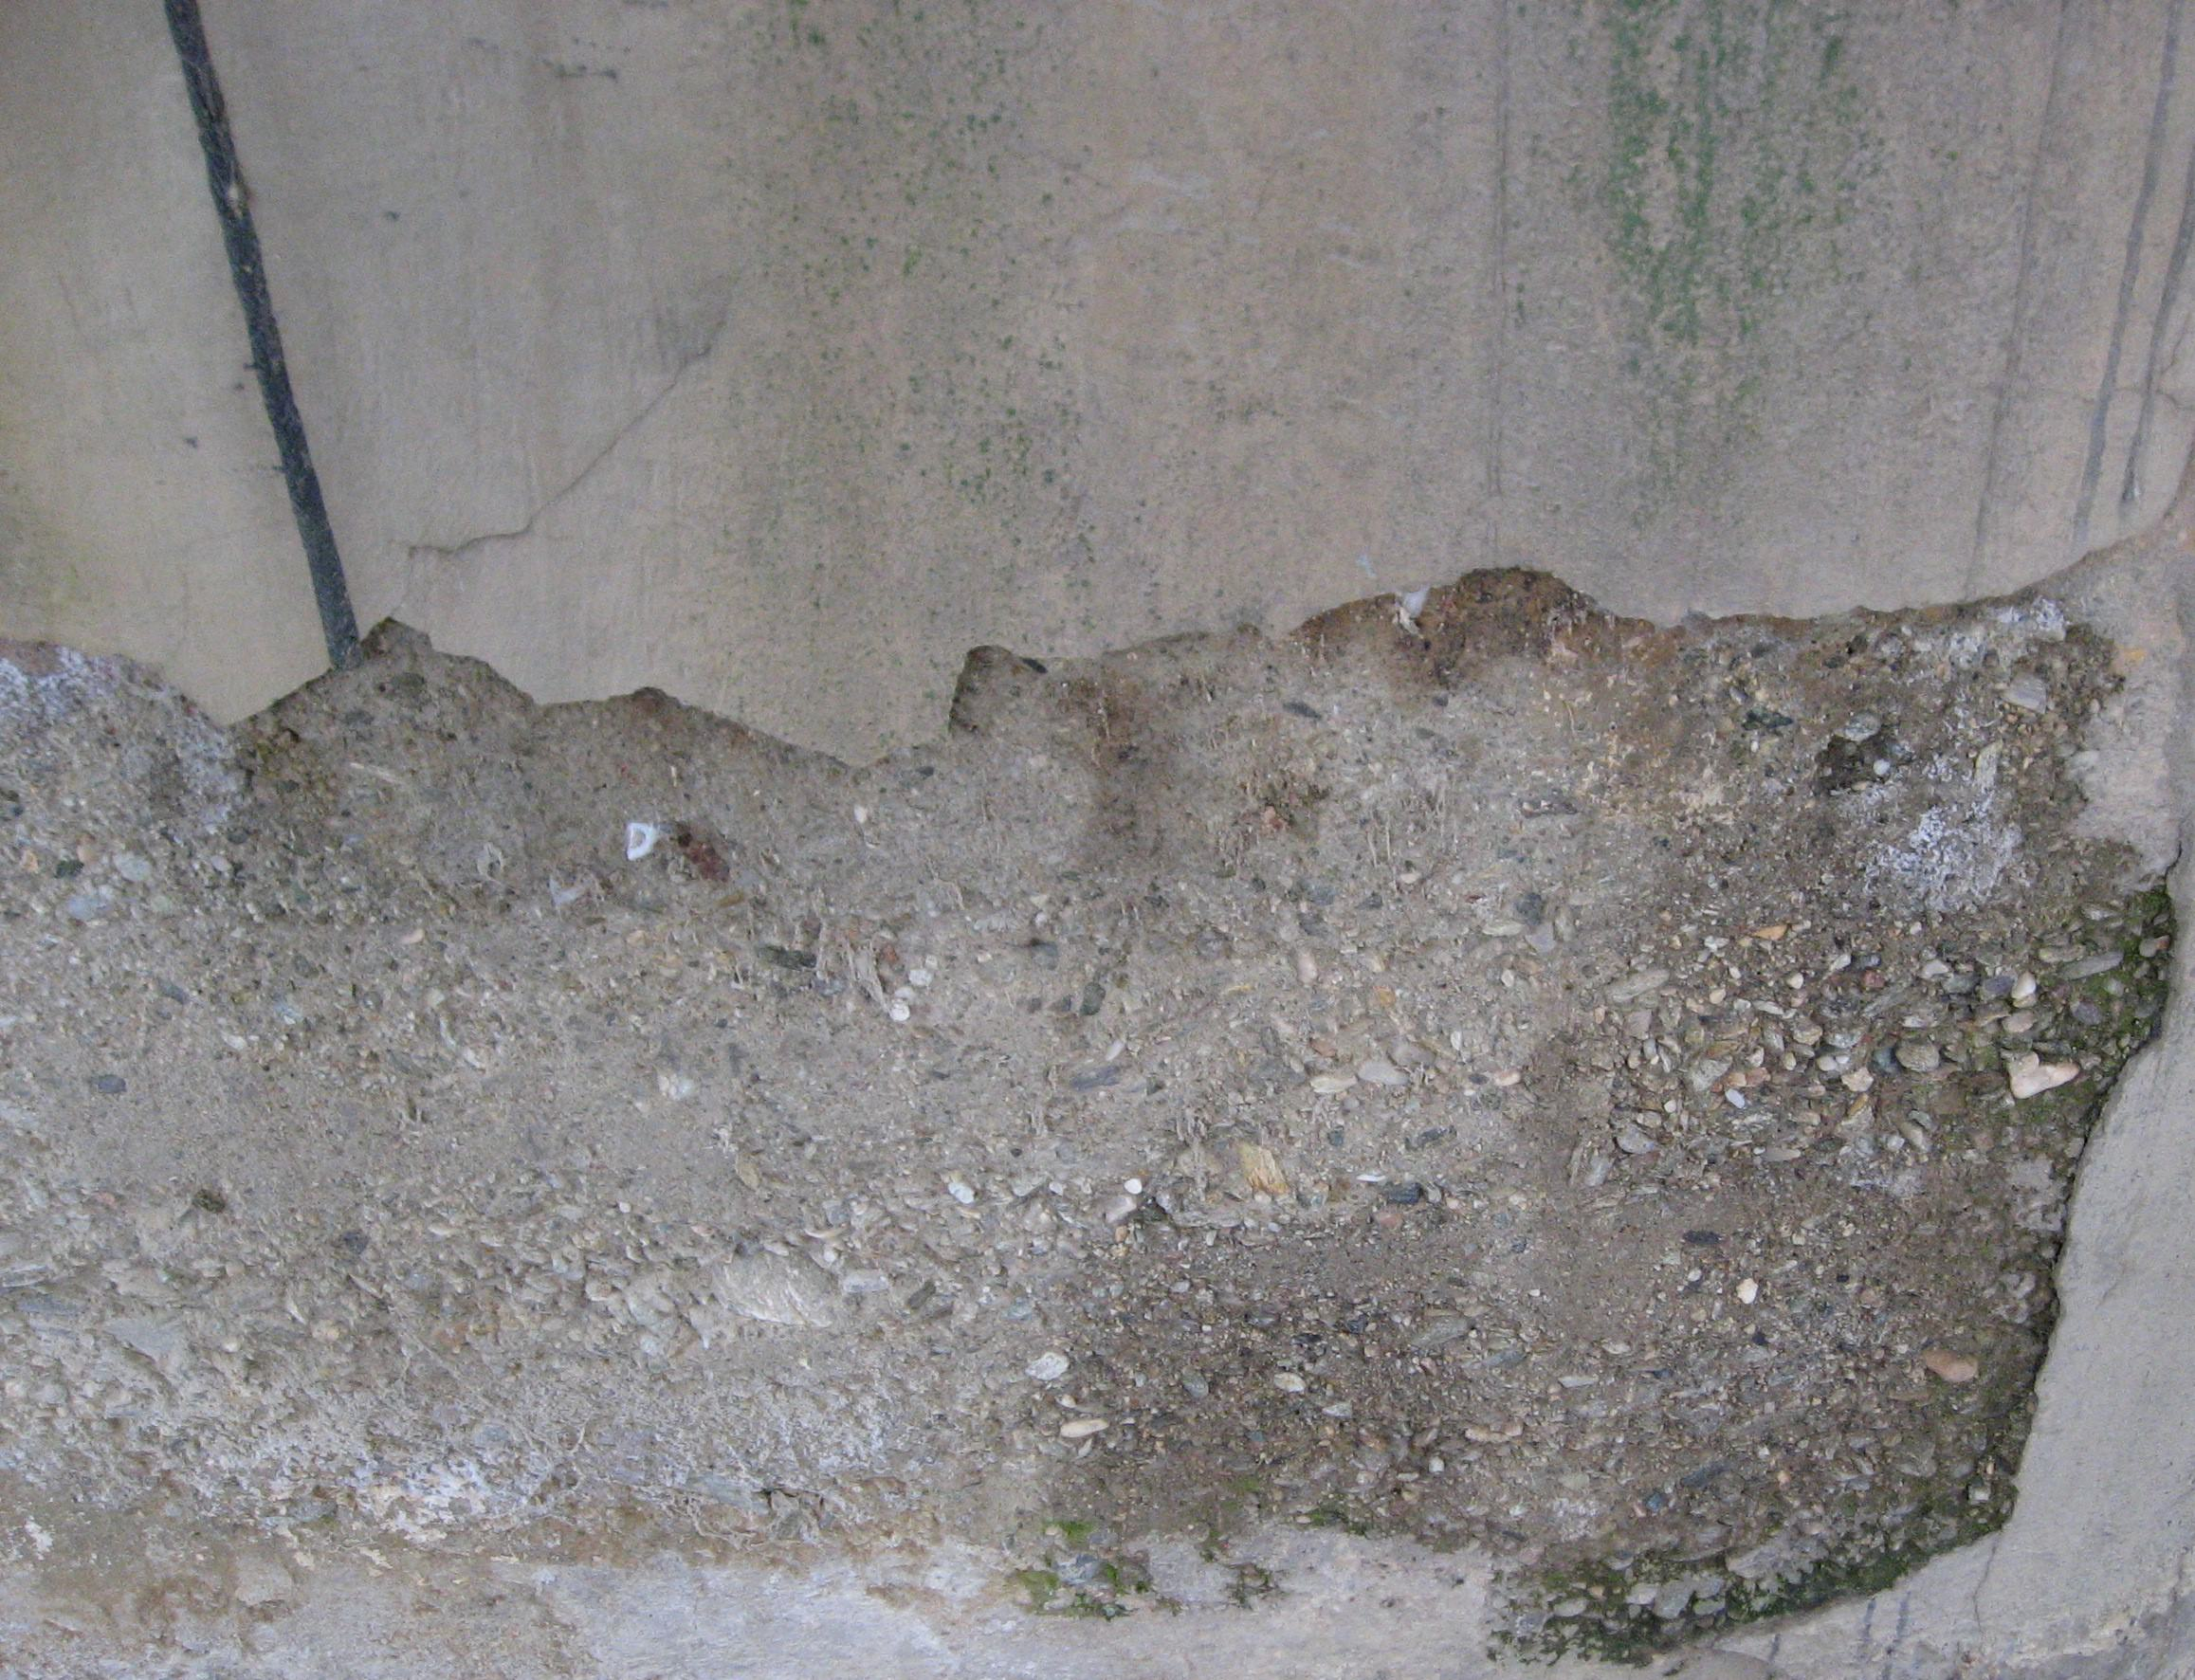Crack: (408, 261, 746, 556)
Spalling: (2, 517, 2195, 1680)
